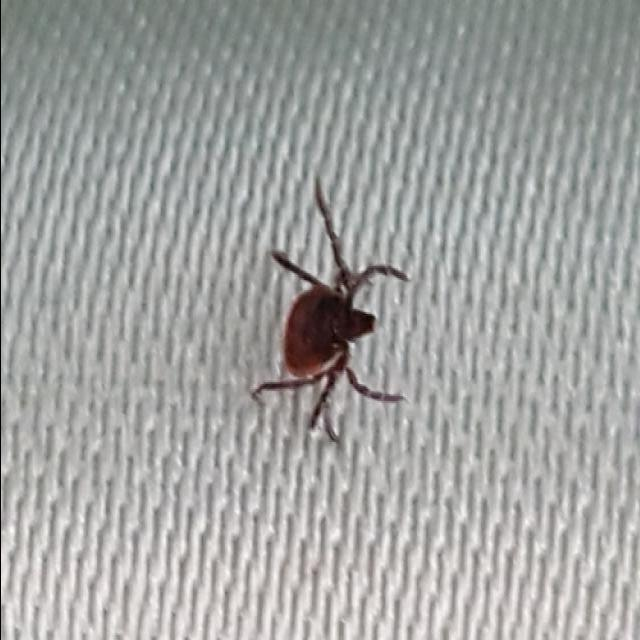Ixodes Ricinus-F: (256, 188, 404, 440)
